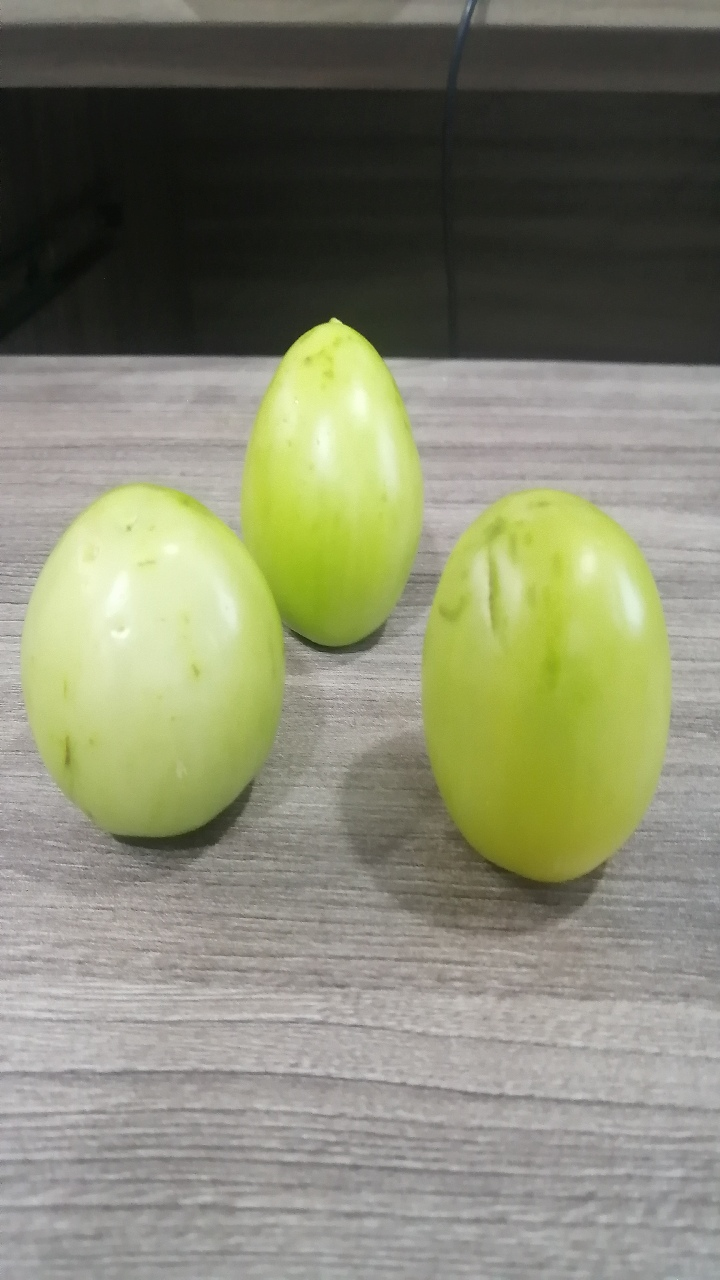tomateVerde: (401, 472, 684, 909), (20, 482, 292, 845), (209, 289, 443, 663)
